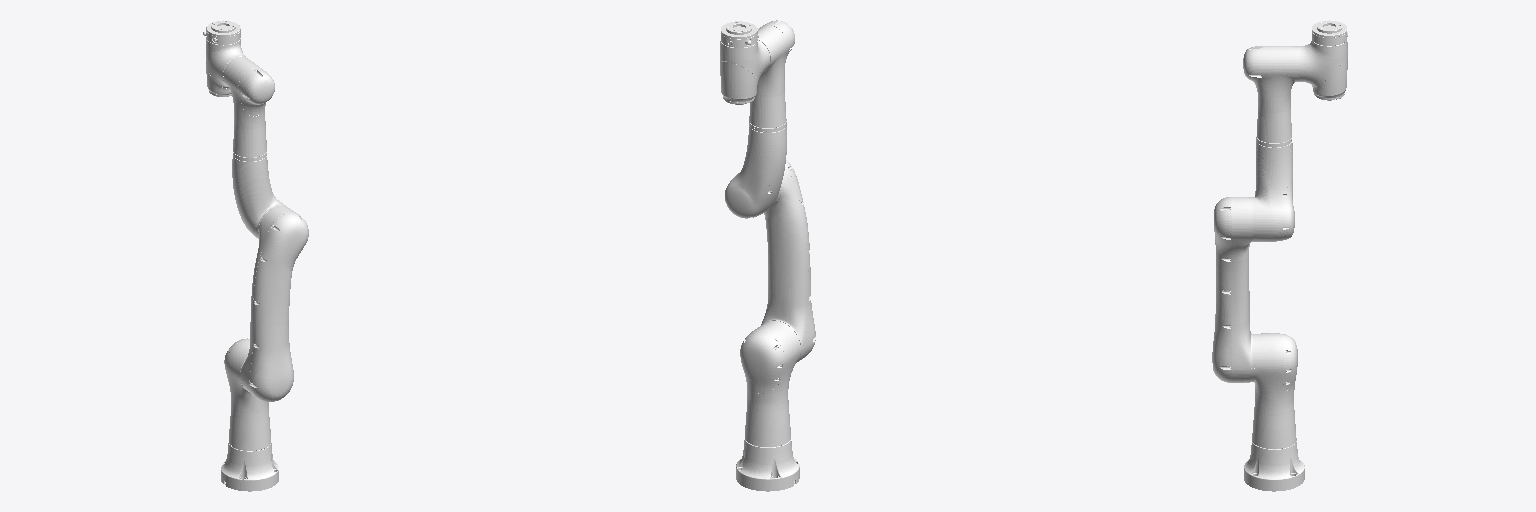
URDF robot description (Rokae_SR5):
<?xml version="1.0" ?>
<robot name="Rokae_SR5">
  <!-- Constants for robot dimensions -->
  <material name="black">
    <color rgba="0.0 0.0 0.0 1.0"/>
  </material>
  <material name="blue">
    <color rgba="0.0 0.0 0.8 1.0"/>
  </material>
  <material name="green">
    <color rgba="0.0 0.8 0.0 1.0"/>
  </material>
  <material name="grey">
    <color rgba="0.2 0.2 0.2 1.0"/>
  </material>
  <material name="orange">
    <color rgba="1.0 0.423529411765 0.0392156862745 1.0"/>
  </material>
  <material name="brown">
    <color rgba="0.870588235294 0.811764705882 0.764705882353 1.0"/>
  </material>
  <material name="red">
    <color rgba="0.8 0.0 0.0 1.0"/>
  </material>
  <material name="white">
    <color rgba="1.0 1.0 1.0 1.0"/>
  </material>
  <material name="Beige">
    <color rgba="1.0 0.784 0.5765 1.0"/>
  </material>
    
  <!--base-->
  <link name="base_link">
    <visual>
      <geometry>
        <mesh filename="Visual/BaseLink.dae"/>
      </geometry>
      <origin rpy="0 0 0" xyz="0.0 0.0 0.0"/>
      <material name="white"/>
    </visual>
    <collision>
      <geometry>
        <mesh filename="Collision/BaseLink.stl"/>
      </geometry>
    </collision>
    <inertial>
      <mass value="3.167"/>
      <inertia ixx="31.16798700" ixy="-0.00064800" ixz="-0.00427300" iyy="30.71271000" iyz="-2.23655800" izz="5.87740200"/>
      <origin rpy="0 0 0" xyz="0.000011 -0.007992 0.235842"/>
    </inertial>
  </link>
  <joint name="joint1" type="revolute">
    <parent link="base_link"/>
    <child link="Link1"/>
    <limit effort="113" lower="-3.0543" upper="3.0543" velocity="18.0"/>
    <axis xyz="0 0 1"/>
    <origin rpy="0 0 0" xyz="0.0 0.0 0.328"/>
  </joint>
  <transmission name="tran1">
    <type>transmission_interface/SimpleTransmission</type>
    <joint name="joint7">
      <hardwareInterface>EffortJointInterface</hardwareInterface>
    </joint>
    <actuator name="motor1">
      <hardwareInterface>EffortJointInterface</hardwareInterface>
      <mechanicalReduction>1</mechanicalReduction>
    </actuator>
  </transmission>
  
  <!--link 1-->
  <link name="Link1">
    <visual>
      <geometry>
        <mesh filename="Visual/Link1.dae"/>
      </geometry>
      <origin rpy="0 0 0" xyz="0 0 0"/>
      <material name="white"/>
    </visual>
    <inertial>
      <mass value="3.167"/>
      <inertia ixx="31.16798700" ixy="-0.00064800" ixz="-0.00427300" iyy="30.71271000" iyz="-2.23655800" izz="5.87740200"/>
      <origin rpy="0 0 0" xyz="0.000011 -0.007992 0.235842"/>
    </inertial>
    <collision>
      <geometry>
        <mesh filename="Collision/Link1.stl"/>
      </geometry>
      <origin rpy="0 0 0" xyz="0 0 0"/>
    </collision>
  </link>
  <joint name="joint2" type="revolute">
    <parent link="Link1"/>
    <child link="Link2"/>
    <limit effort="113" lower="-2.7925" upper="2.618" velocity="18.0"/>
    <axis xyz="0 1 0"/>
    <origin rpy="0 0 0" xyz="0.0 0.0 0.0"/>
  </joint>
  <transmission name="tran2">
    <type>transmission_interface/SimpleTransmission</type>
    <joint name="joint2">
      <hardwareInterface>EffortJointInterface</hardwareInterface>
    </joint>
    <actuator name="motor2">
      <hardwareInterface>EffortJointInterface</hardwareInterface>
      <mechanicalReduction>1</mechanicalReduction>
    </actuator>
  </transmission>
  
  <!--link 2-->
  <link name="Link2">
    <visual>
      <geometry>
        <mesh filename="Visual/Link2.dae"/>
      </geometry>
      <origin rpy="0 0 0" xyz="0 0 0.0"/>
      <material name="white"/>
    </visual>
    <inertial>
      <mass value="4.291"/>
      <inertia ixx="140.42515100" ixy="0.39008800" ixz="14.94819200" iyy="140.40198200" iyz="-2.55276700" izz="12.64775400"/>
      <origin rpy="0 0 0" xyz="0.016666 -0.069301 0.184671"/>
    </inertial>
    <collision>
      <geometry>
        <mesh filename="Collision/Link2.stl"/>
      </geometry>
      <origin rpy="0 0 0" xyz="0 0 0.0"/>
    </collision>
  </link>
  <joint name="joint3" type="revolute">
    <parent link="Link2"/>
    <child link="Link3"/>
    <limit effort="70" lower="-2.9671" upper="2.4435" velocity="18.0"/>
    <axis xyz="0 -1 0"/>
    <origin rpy="0 0 0" xyz="0.05 0.0 0.4"/>
  </joint>
  <transmission name="tran3">
    <type>transmission_interface/SimpleTransmission</type>
    <joint name="joint3">
      <hardwareInterface>EffortJointInterface</hardwareInterface>
    </joint>
    <actuator name="motor3">
      <hardwareInterface>EffortJointInterface</hardwareInterface>
      <mechanicalReduction>1</mechanicalReduction>
    </actuator>
  </transmission>
  <!--link 3-->
  <link name="Link3">
    <visual>
      <geometry>
        <mesh filename="Visual/Link3.dae"/>
      </geometry>
      <origin rpy="0 0 0" xyz="0 0 0"/>
      <material name="white"/>
    </visual>
    <inertial>
      <mass value="2.018"/>
      <inertia ixx="21.03841900" ixy="-0.48390500" ixz="4.02664700" iyy="21.67666800" iyz="-1.70489900" izz="4.29357500"/>
      <origin rpy="0 0 0" xyz="0.0249 0.009986 0.083739"/>
    </inertial>
    <collision>
      <geometry>
        <mesh filename="Collision/Link3.stl"/>
      </geometry>
      <origin rpy="0 0 0" xyz="0 0 0"/>
    </collision>
  </link>
  <joint name="joint4" type="revolute">
    <parent link="Link3"/>
    <child link="Link4"/>
    <limit effort="25" lower="-3.0543" upper="3.0543" velocity="18.0"/>
    <!--     lower="-3.0543" upper="3.0543" -->
    <axis xyz="0 0 1"/>
    <!--     <origin rpy="0 0 0" xyz=-0.05 0.0 0.4/> -->
    <origin rpy="0 0 0" xyz="-0.05 0.0 0.4"/>
  </joint>
  <transmission name="tran4">
    <type>transmission_interface/SimpleTransmission</type>
    <joint name="joint4">
      <hardwareInterface>EffortJointInterface</hardwareInterface>
    </joint>
    <actuator name="motor4">
      <hardwareInterface>EffortJointInterface</hardwareInterface>
      <mechanicalReduction>1</mechanicalReduction>
    </actuator>
  </transmission>
  <!--link 4-->
  <link name="Link4">
    <visual>
      <geometry>
        <mesh filename="Visual/Link4.dae"/>
      </geometry>
      <origin rpy="0 0 0" xyz="0.0 0.0 0.0"/>
      <material name="white"/>
    </visual>
    <inertial>
      <mass value="2.005"/>
      <inertia ixx="13.25118600" ixy="0.00060800" ixz="0.00278200" iyy="12.55684000" iyz="-1.15730700" izz="2.74484800"/>
      <origin rpy="0 0 0" xyz="0.000066 -0.008515 -0.068865"/>
    </inertial>
    <collision>
      <geometry>
        <mesh filename="Collision/Link4.stl"/>
      </geometry>
      <origin rpy="0 0 0" xyz="0.0 0.0 0.0"/>
    </collision>
  </link>
  <joint name="joint5" type="revolute">
    <parent link="Link4"/>
    <child link="Link5"/>
    <limit effort="25" lower="-3.0543" upper="3.0543" velocity="18.0"/>
    <axis xyz="0 -1 0"/>
    <origin rpy="0 0 0" xyz="0.0 0.136 0.0"/>
  </joint>
  <transmission name="tran5">
    <type>transmission_interface/SimpleTransmission</type>
    <joint name="joint5">
      <hardwareInterface>EffortJointInterface</hardwareInterface>
    </joint>
    <actuator name="motor5">
      <hardwareInterface>EffortJointInterface</hardwareInterface>
      <mechanicalReduction>1</mechanicalReduction>
    </actuator>
  </transmission>
  
  <!--link 5-->
  <link name="Link5">
    <visual>
      <geometry>
        <mesh filename="Visual/Link5.dae"/>
      </geometry>
      <origin rpy="0 0 0" xyz="0 0 0"/>
      <material name="white"/>
    </visual>
    <inertial>
      <mass value="1.507"/>
      <inertia ixx="5.03262500" ixy="-0.00607500" ixz="-0.00129300" iyy="2.61441800" iyz="-0.33164800" izz="3.94480300"/>
      <origin rpy="0 0 0" xyz="0.000003 0.029173 0.007019"/>
    </inertial>
    <collision>
      <geometry>
        <mesh filename="Collision/Link5.stl"/>
      </geometry>
      <origin rpy="0 0 0" xyz="0 0 0"/>
    </collision>
  </link>
  <joint name="joint6" type="revolute">
    <parent link="Link5"/>
    <child link="Link6"/>
    <limit effort="19" lower="-3.0543" upper="3.0543" velocity="18.0"/>
    <axis xyz="0 0 1"/>
    <origin rpy="0.0 0.0 0" xyz="0.0 0.0 0.1035"/>
  </joint>
  <transmission name="tran6">
    <type>transmission_interface/SimpleTransmission</type>
    <joint name="joint6">
      <hardwareInterface>EffortJointInterface</hardwareInterface>
    </joint>
    <actuator name="motor6">
      <hardwareInterface>EffortJointInterface</hardwareInterface>
      <mechanicalReduction>1</mechanicalReduction>
    </actuator>
  </transmission>
  
  <!--link 6-->
  <link name="Link6">
    <visual>
      <geometry>
        <mesh filename="Visual/Link6.dae"/>
      </geometry>
      <origin rpy="0 0 0" xyz="0.0 0.0 0.0"/>
      <material name="white"/>
    </visual>
    <inertial>
      <mass value="0.634"/>
      <inertia ixx="0.99701600" ixy="-0.00137600" ixz="0.00089700" iyy="1.00253000" iyz="0.00158100" izz="0.44794800"/>
      <origin rpy="0 0 0" xyz="0.000073 0.000079 -0.044853"/>
    </inertial>
    <collision>
      <geometry>
        <mesh filename="Collision/Link6.stl"/>
      </geometry>
      <origin rpy="0 0 0" xyz="0.0 0.0 0.0"/>
    </collision>
  </link>

  <link name="ee_link">
  </link>

  <joint name="jointEE" type="fixed">
    <parent link="Link6"/>
    <child link="ee_link"/>
    <origin rpy="0.0 0.0 0.0" xyz="0.0 0.0 0.0"/>
  </joint>

</robot>

--- What the picture shows (computed from the rendered views, not written in the file) ---
The picture shows the robot from 3 angles, left to right: view 1: azimuth 30°, elevation 25°; view 2: azimuth 150°, elevation 25°; view 3: azimuth 270°, elevation 25°; orthographic projection.
Robot: Rokae_SR5 — 8 links, 7 joints (6 revolute, 1 fixed); root link base_link; default pose: every joint at zero.
Links seen in each view (by area): view 1: Link2, Link4, Link1, Link3, base_link, Link5, Link6; view 2: Link2, Link1, Link3, Link4, base_link, Link5, Link6; view 3: Link2, Link1, Link4, Link3, Link5, base_link, Link6.
Boxes of the visible links, x1,y1,x2,y2 form: Link2: [240, 206, 308, 401]; Link4: [223, 57, 274, 157]; Link1: [224, 338, 270, 450]; Link3: [232, 152, 286, 238]; base_link: [221, 443, 278, 491]; Link5: [206, 38, 245, 96]; Link6: [203, 20, 240, 44]; Link2: [761, 160, 815, 362]; Link1: [740, 321, 800, 446]; Link3: [725, 121, 786, 218]; Link4: [749, 20, 794, 127]; base_link: [736, 440, 799, 491]; Link5: [720, 40, 769, 104]; Link6: [721, 21, 758, 47]; Link2: [1212, 197, 1252, 382]; Link1: [1252, 333, 1297, 448]; Link4: [1243, 46, 1299, 142]; Link3: [1253, 136, 1294, 241]; Link5: [1300, 41, 1347, 100]; base_link: [1244, 441, 1304, 491]; Link6: [1312, 20, 1347, 45].
Bounding box of the posed robot: 0.1813 × 0.3336 × 1.23 m (x, y, z).
Meshes: 7 distinct files referenced, 7 mesh visuals loaded (7 Collada DAE).
